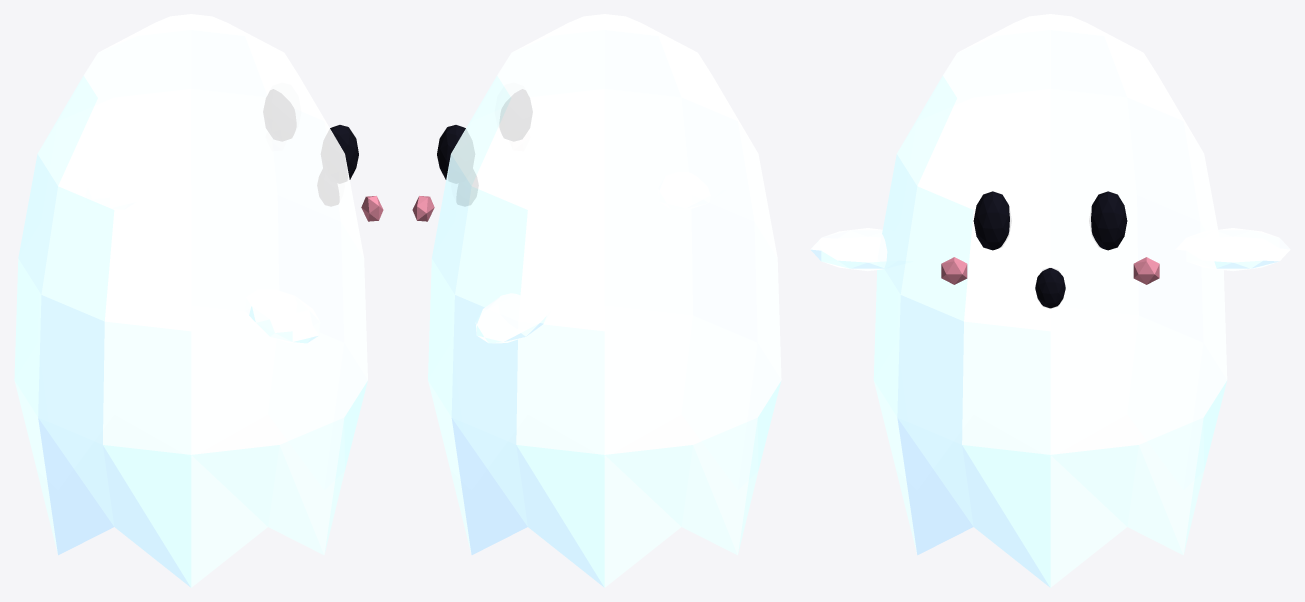
Rendered from hazard-ghost.glb.
3 renders of one model, left to right at view 1: azimuth 30°, elevation 25°; view 2: azimuth 150°, elevation 25°; view 3: azimuth 270°, elevation 25°, orthographic.
Parts seen in each view (by area): view 1: hazard-ghost; view 2: hazard-ghost; view 3: hazard-ghost.
Boxes of the visible parts, box(x1,y1,x2,y2) form: hazard-ghost: box(14, 14, 383, 587); hazard-ghost: box(412, 14, 781, 587); hazard-ghost: box(810, 14, 1290, 587).
Size of the model in its own units: 1.84 by 2.82 by 2.5.
